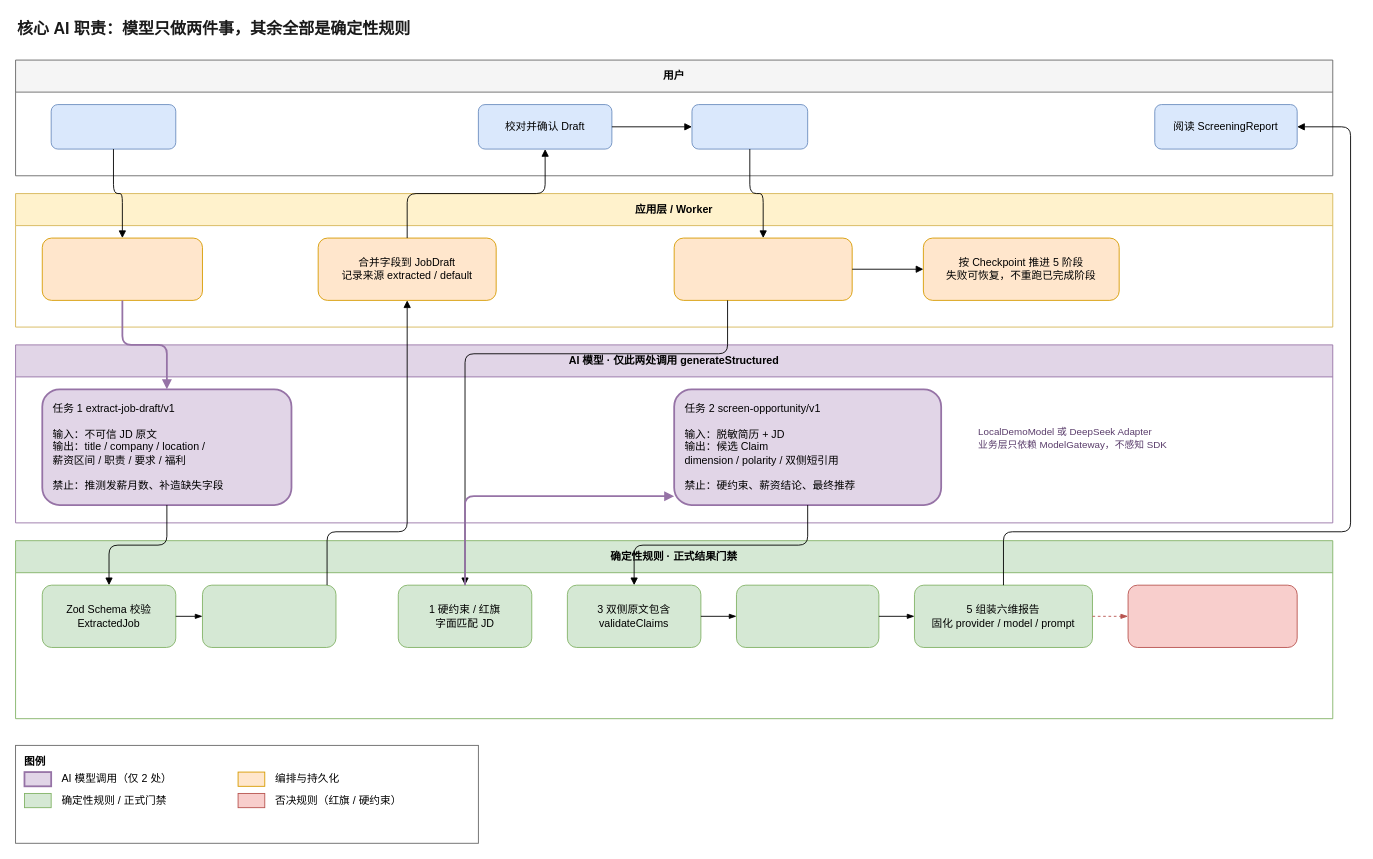
This 1373x859 diagram has some shape labels left out. The shapes that lost their labels are listed below. From the top down, each one's centre as x and y in pixels, then its label:
pixel 113 126: 粘贴 JD 文本
pixel 749 126: 启动初筛
pixel 121 268: 排队 extract-job-draft 冻结 modelConfig
pixel 762 268: 冻结 Profile / Job 快照 创建 ResearchRun
pixel 269 615: 缺月数则 12 薪 并留下可见假设
pixel 807 615: 4 薪资总包 + recommend() 加权
pixel 1212 615: 命中 required / blocking → not_recommended
